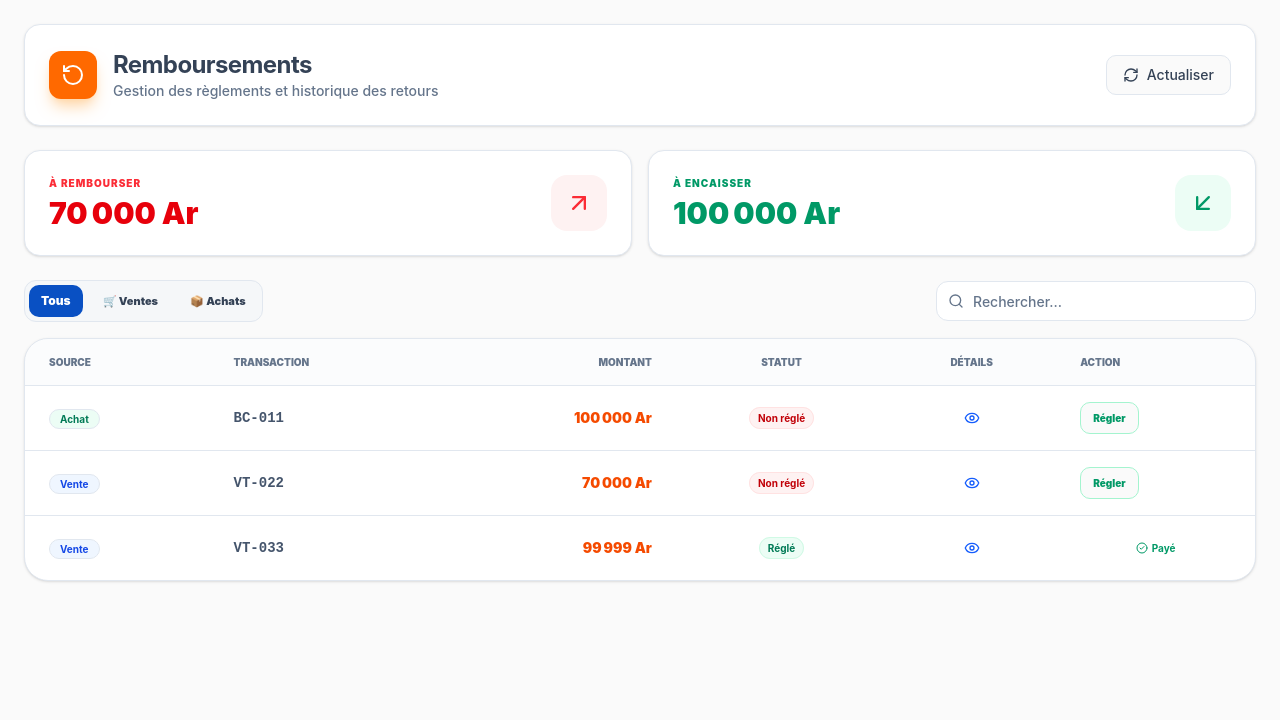
Mission 3 — Remboursements : détail de la transaction source (chargement différé) › origine ACHAT : recharge le bon de commande source et affiche référence, raison, lignes et total
Expected: the text "BC-011" is shown, [210,386,441,451]
Step 1. Click the button without text in the row of "BC-011" → click(972, 418), box [956,402,988,434]
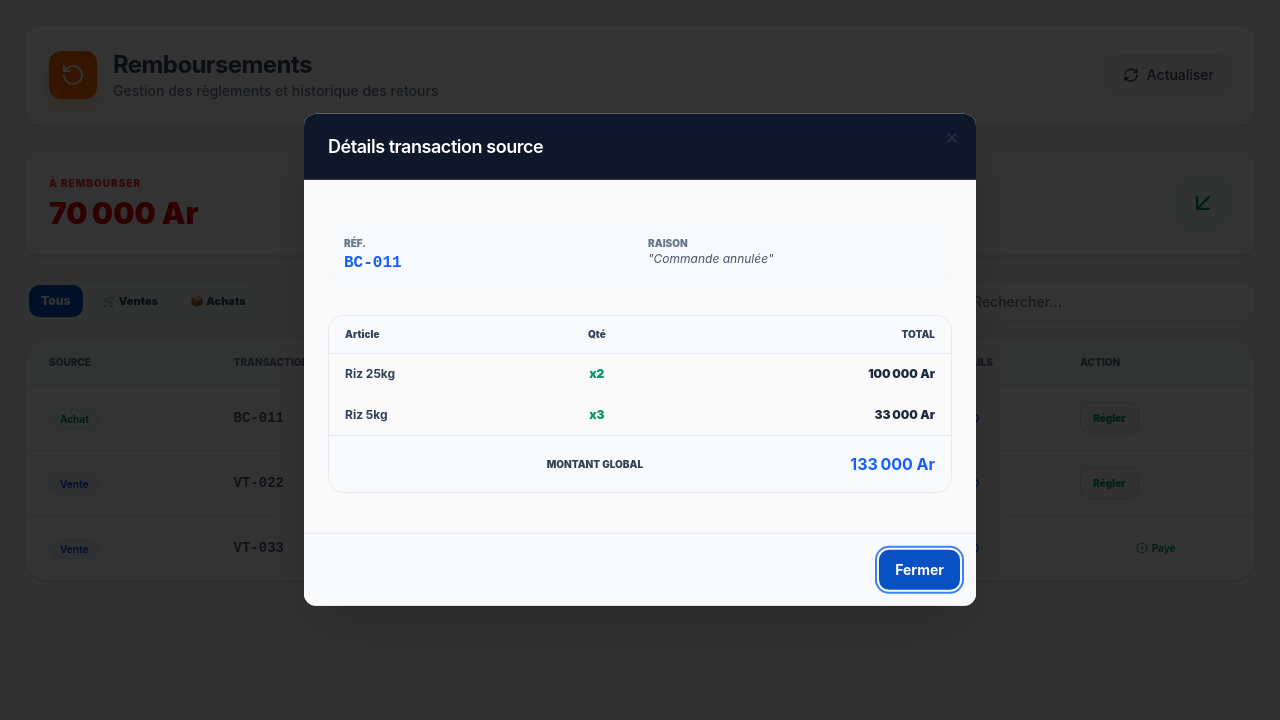
Expected: the text "Riz 25kg" is shown, [329,354,534,395]
Expected: the text "BC-011" is shown, [344,254,402,272]
Expected: the text "\"Commande annulée\"" is shown, [648,251,774,266]
